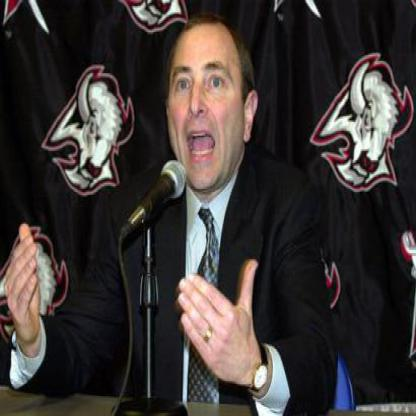face: (167, 21, 247, 193)
